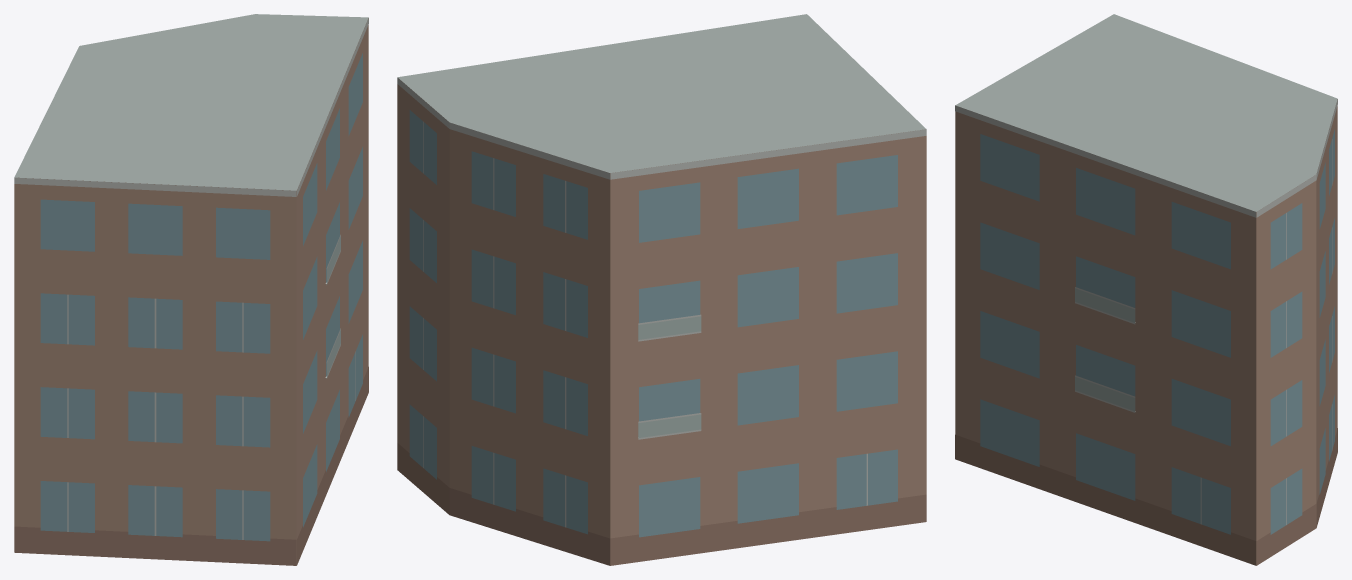
File: survey-upis-32538765.glb
3 views of the same model, side by side, from view 1: azimuth 30°, elevation 25°; view 2: azimuth 150°, elevation 25°; view 3: azimuth 270°, elevation 25° (orthographic). The views are drawn at different scales.
Visible parts, largest first — view 1: survey-upis-32538765.tmp; view 2: survey-upis-32538765.tmp; view 3: survey-upis-32538765.tmp.
Part boxes in pixels (x1,y1,x2,y2): survey-upis-32538765.tmp: (14, 14, 368, 565); survey-upis-32538765.tmp: (397, 14, 926, 565); survey-upis-32538765.tmp: (955, 14, 1337, 565).
Bounding box in the file's own units: 17.4 × 14.5 × 14.21.
